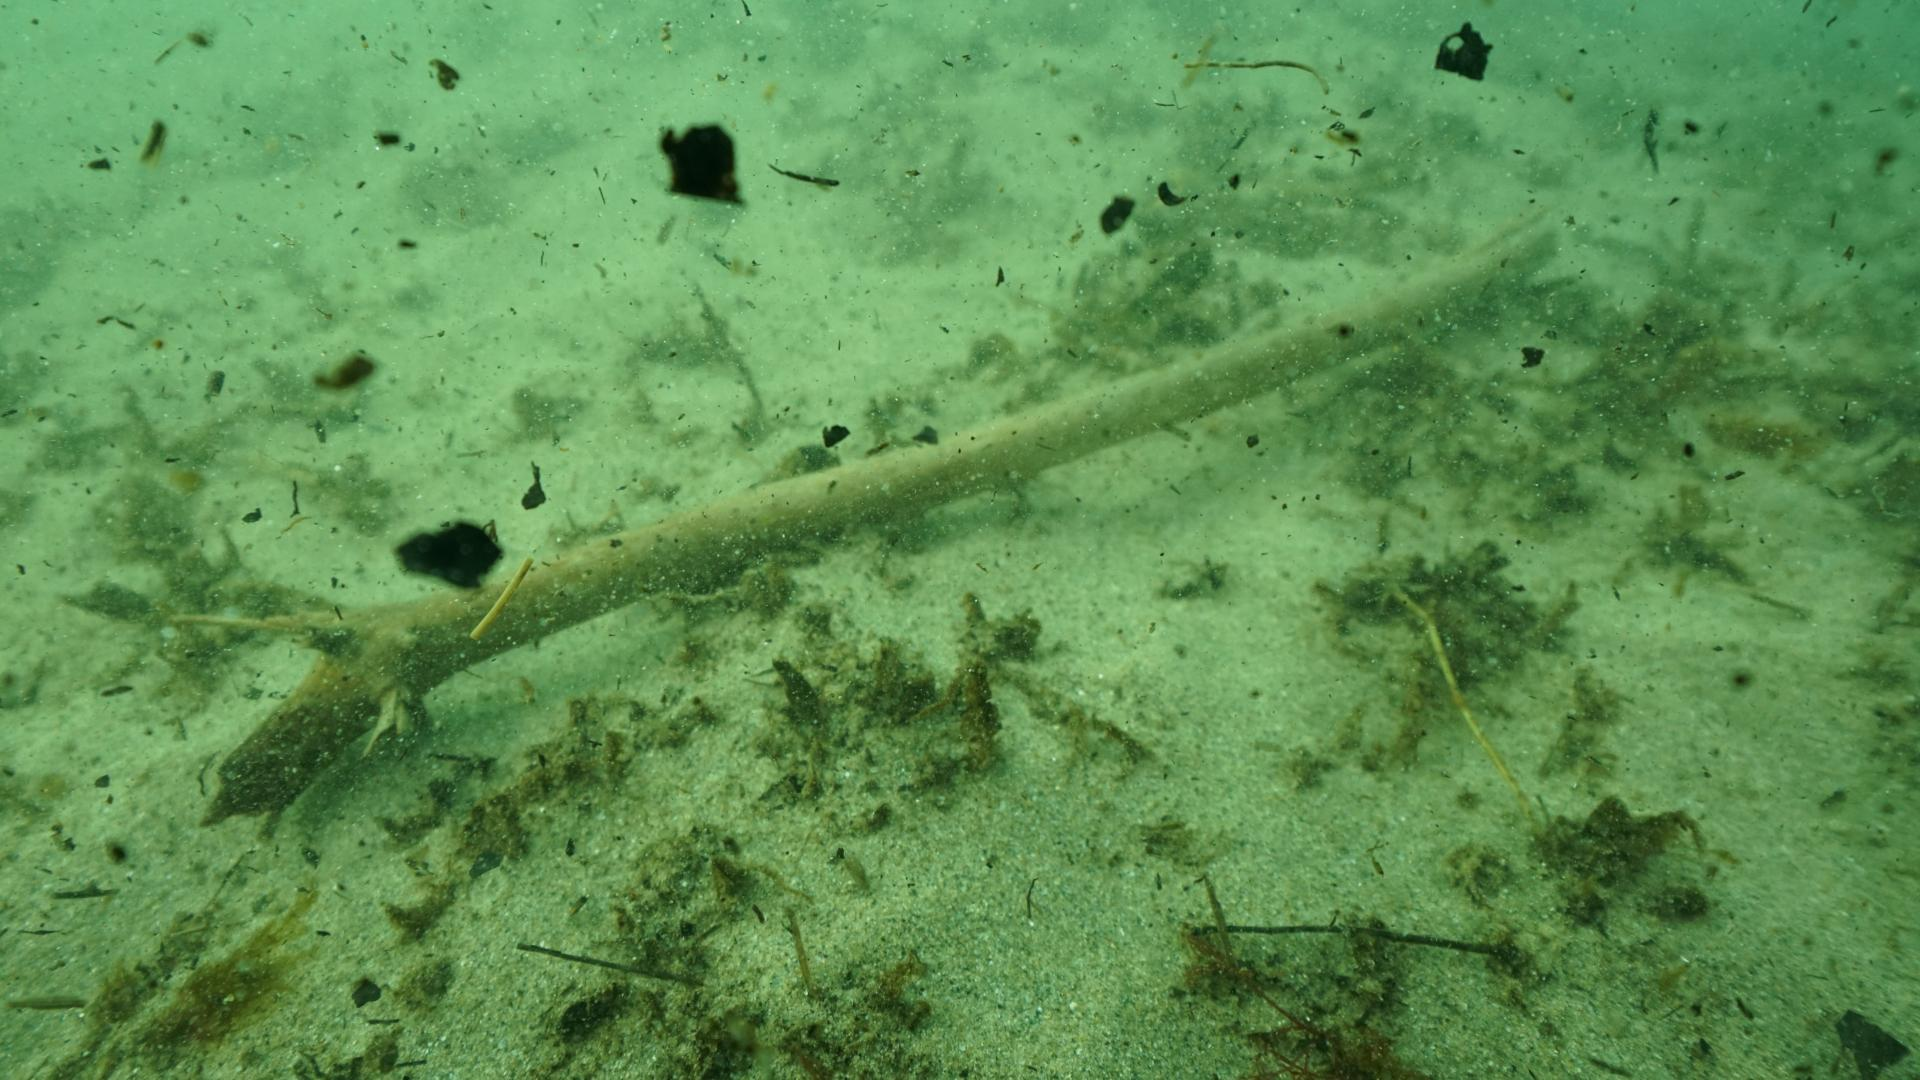wood: (195, 207, 1556, 828)
